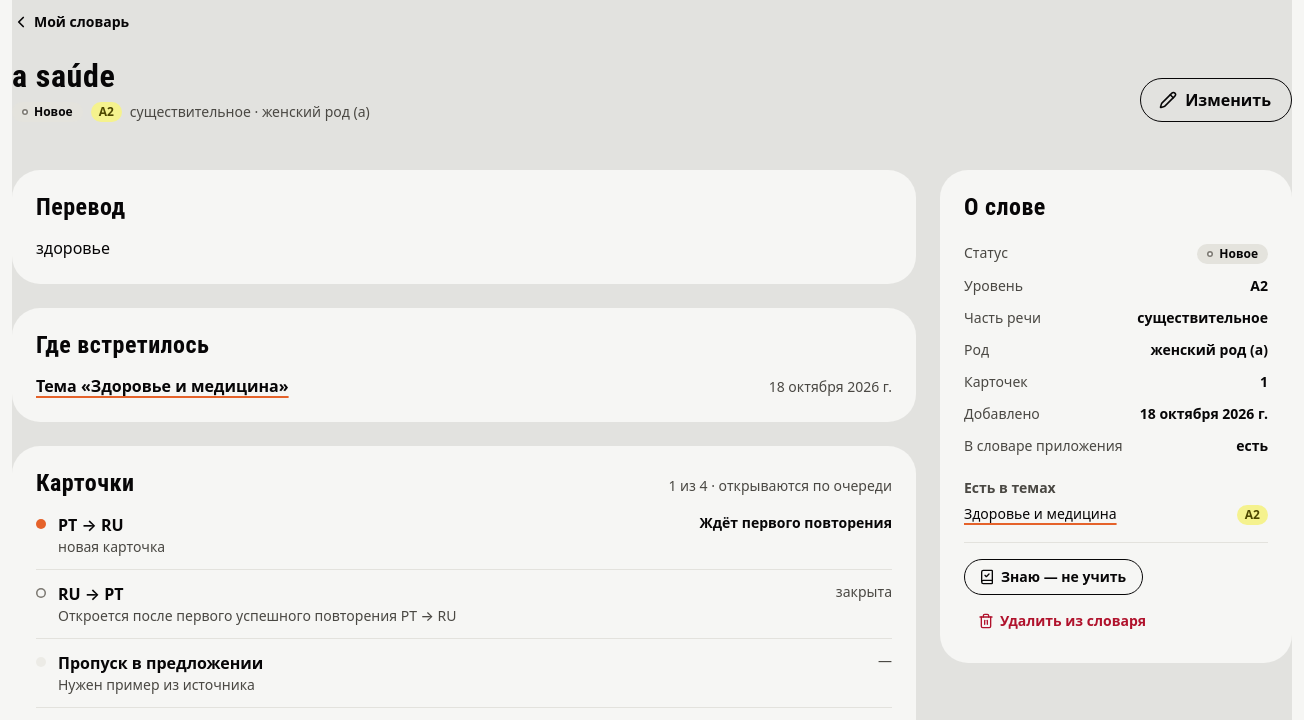
Test: WordPage › a failed action shows a danger toast and stays on the page
Click the button "Удалить из словаря" at (1063, 621), box [964,603,1162,639]
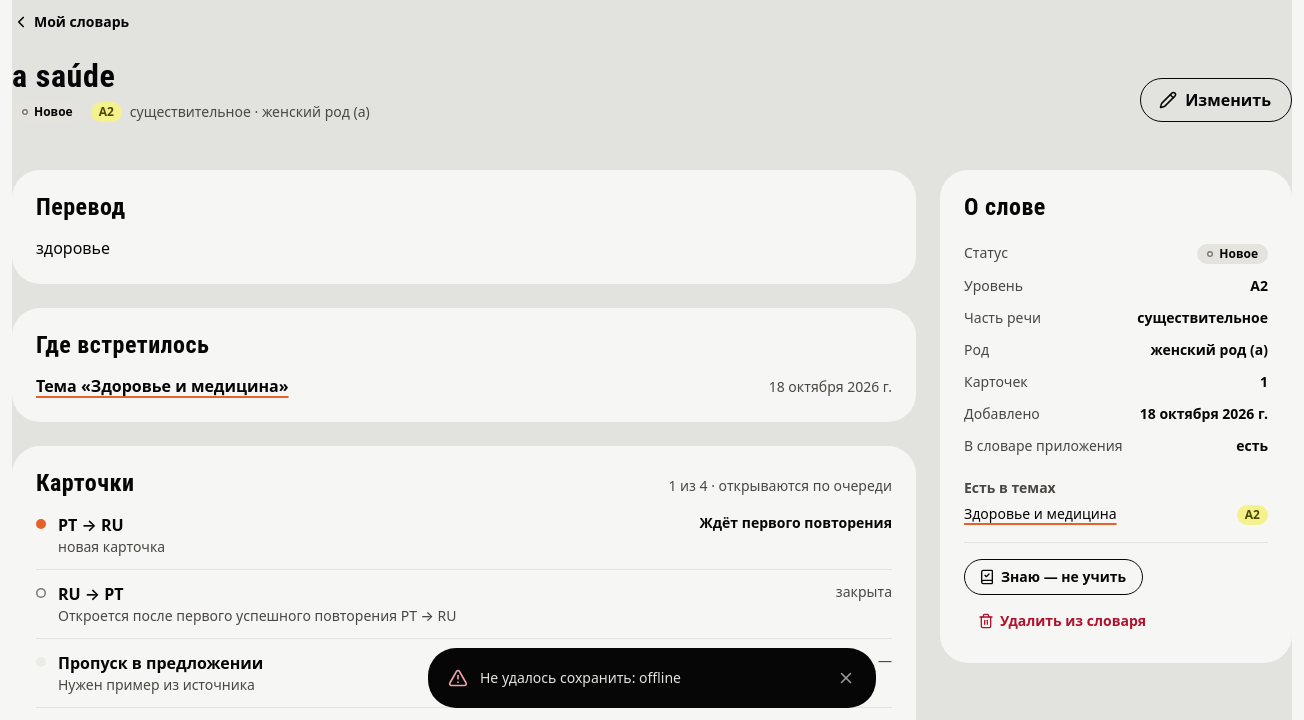
Check: the heading "a saúde" is shown, box [12,57,116,95]
Check: the text "Не удалось сохранить: offline" is shown, box [480,668,681,687]
